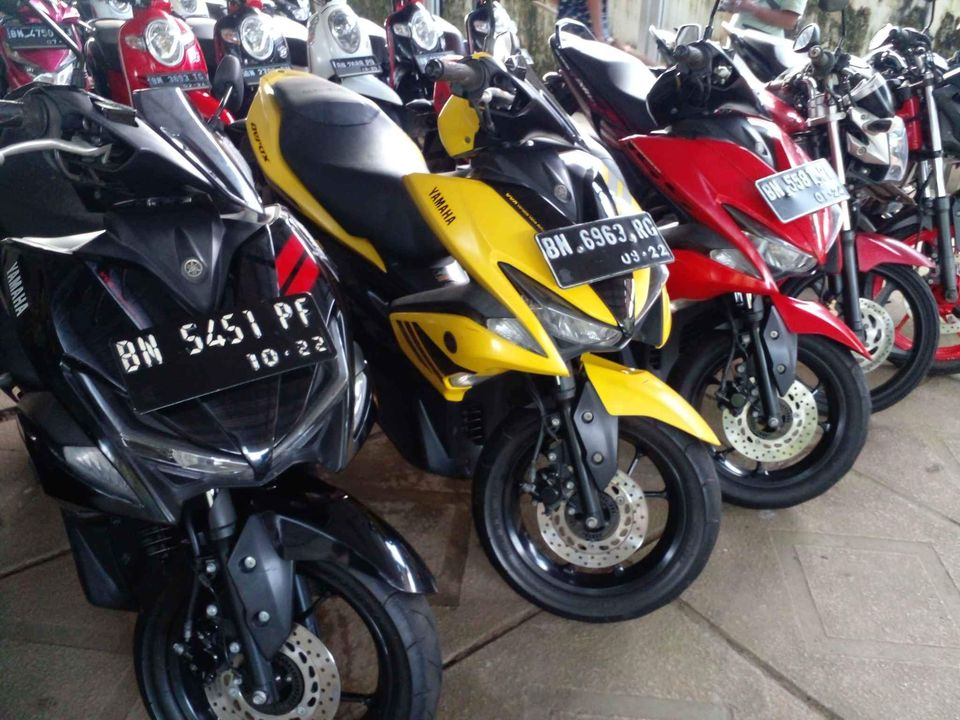plate: (113, 296, 337, 389)
